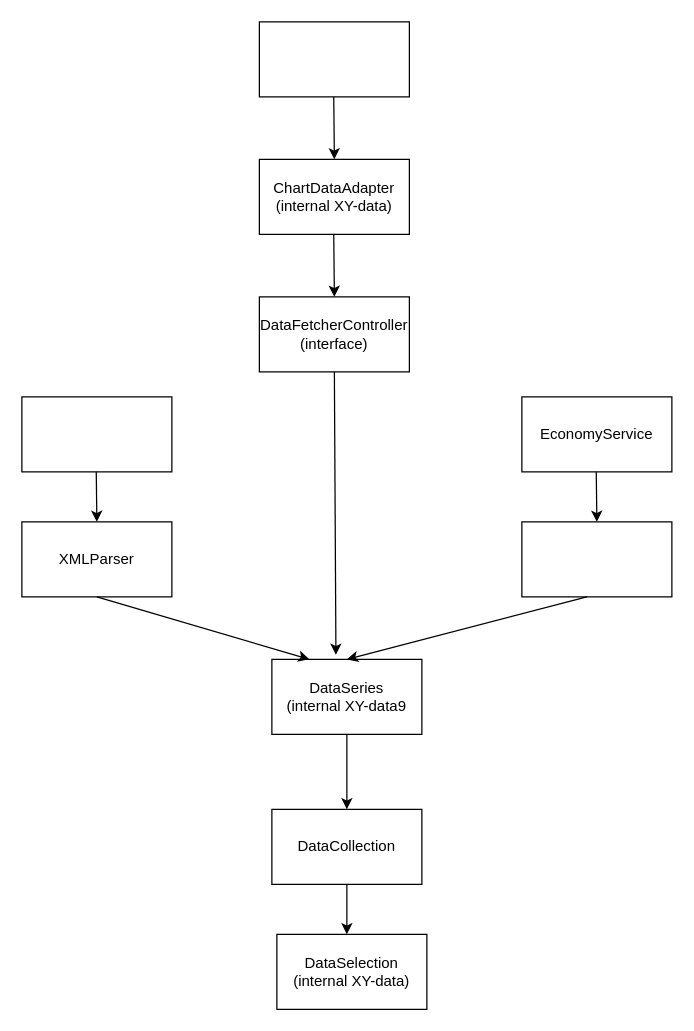
Image size: 694x1031. Some labels were removed from this diagram. Here are the shapes that lost their labels. From the top down, the box of each, then its label:
(258, 21, 409, 97): UI
(21, 396, 172, 472): WeatherService
(521, 521, 672, 597): JSONParser
